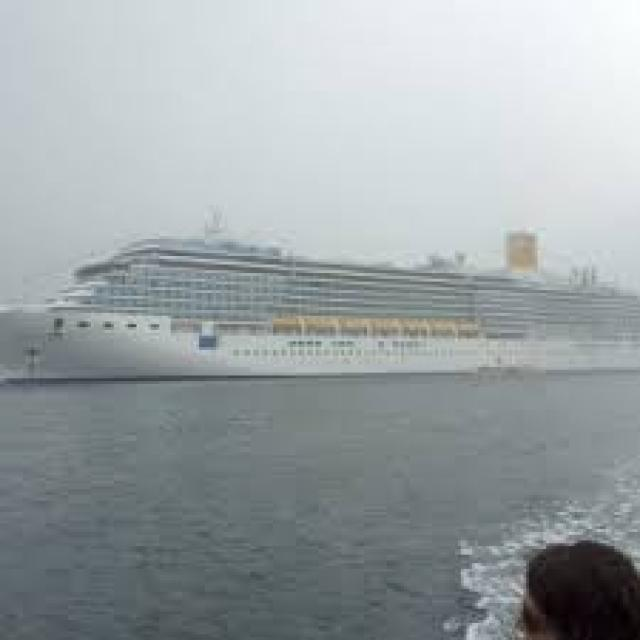passenger ship: (2, 206, 634, 372)
